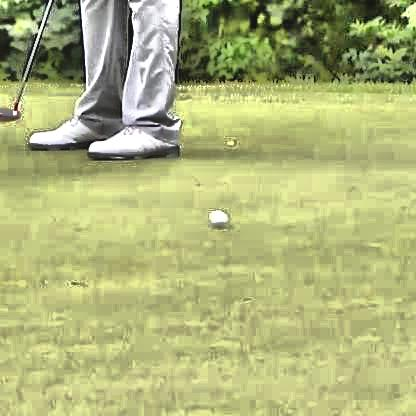golfball: (205, 205, 227, 226)
